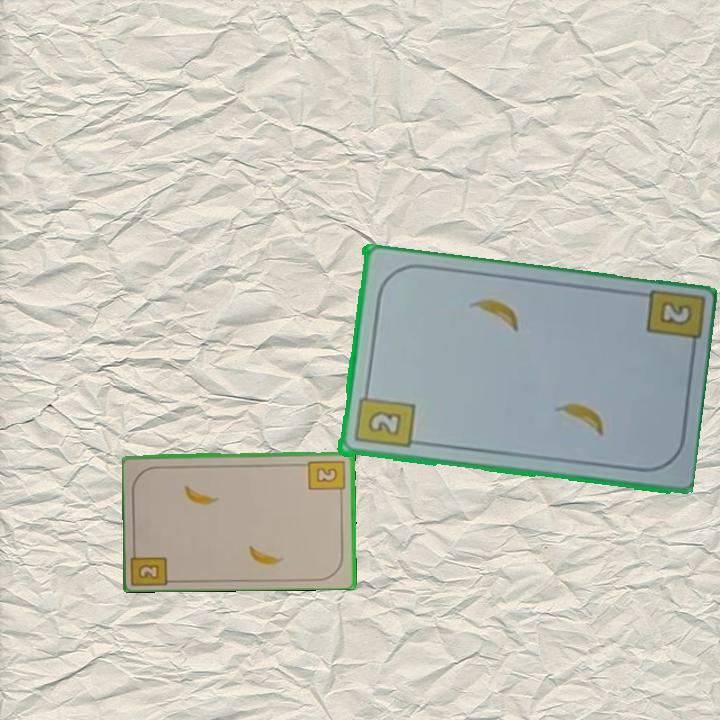2b: (350, 385, 416, 451), (130, 542, 172, 587), (306, 456, 348, 498), (655, 297, 695, 329)
